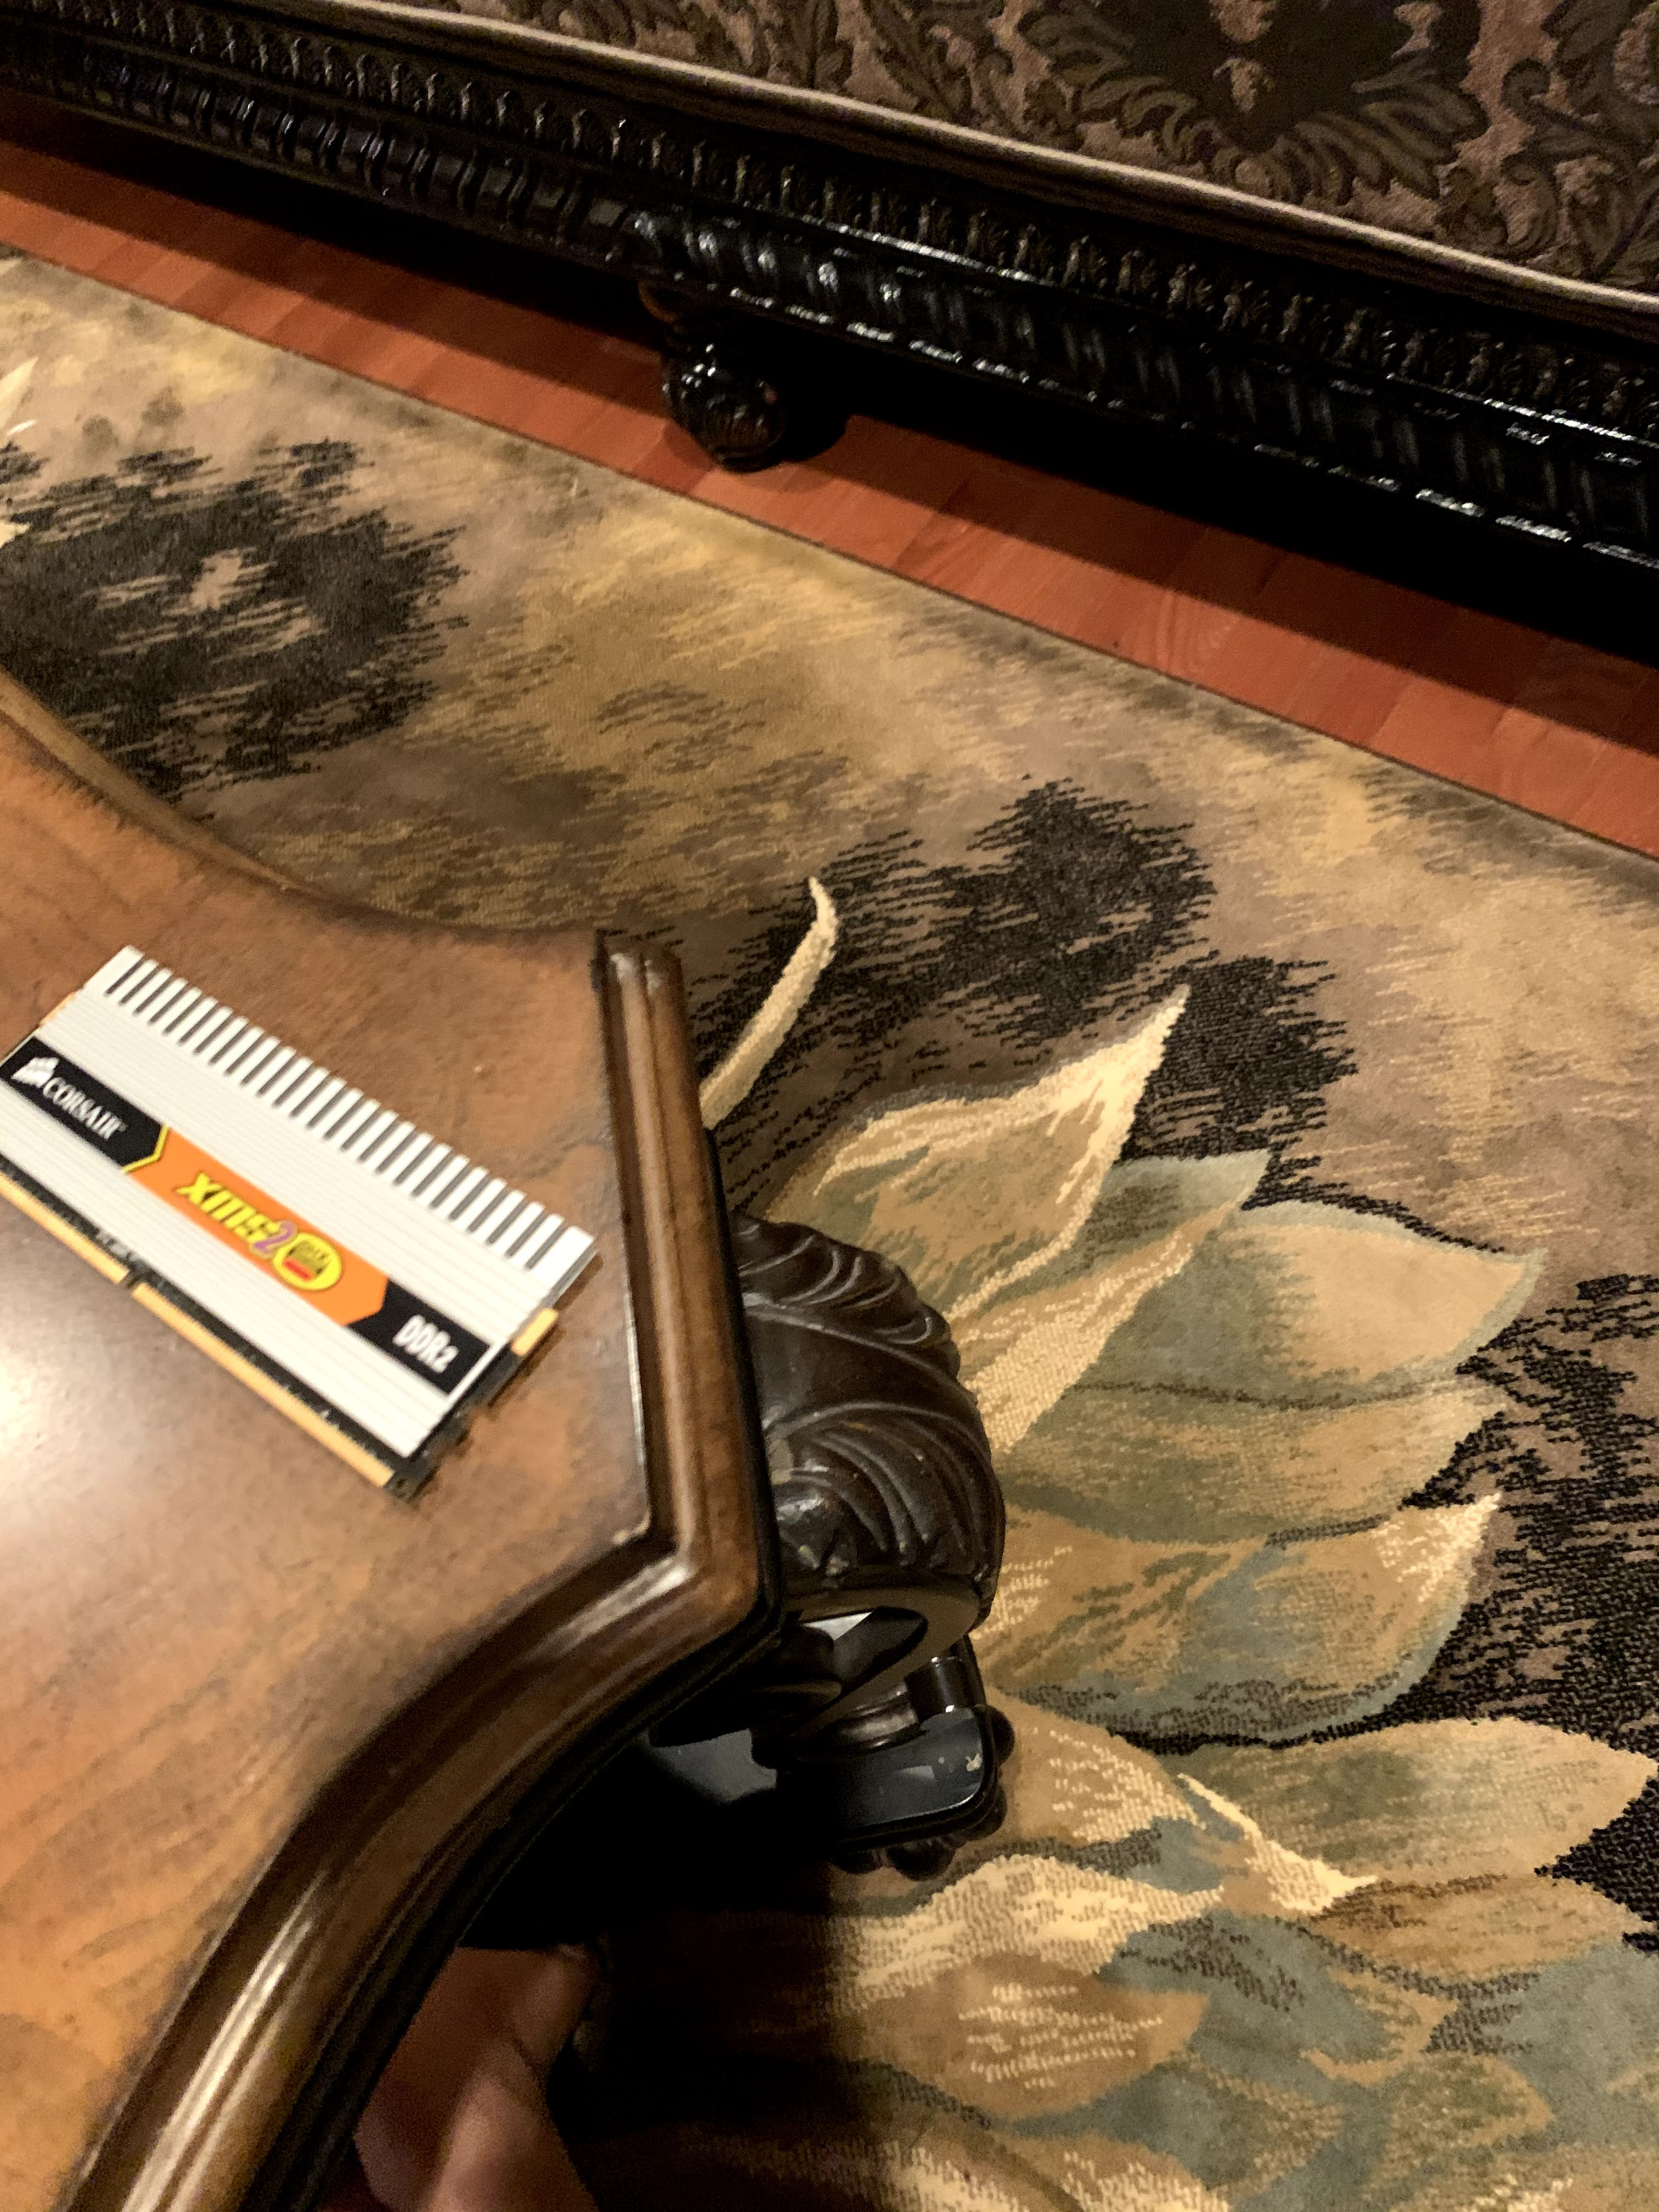Space-debris-medium: (3, 921, 608, 1524)
